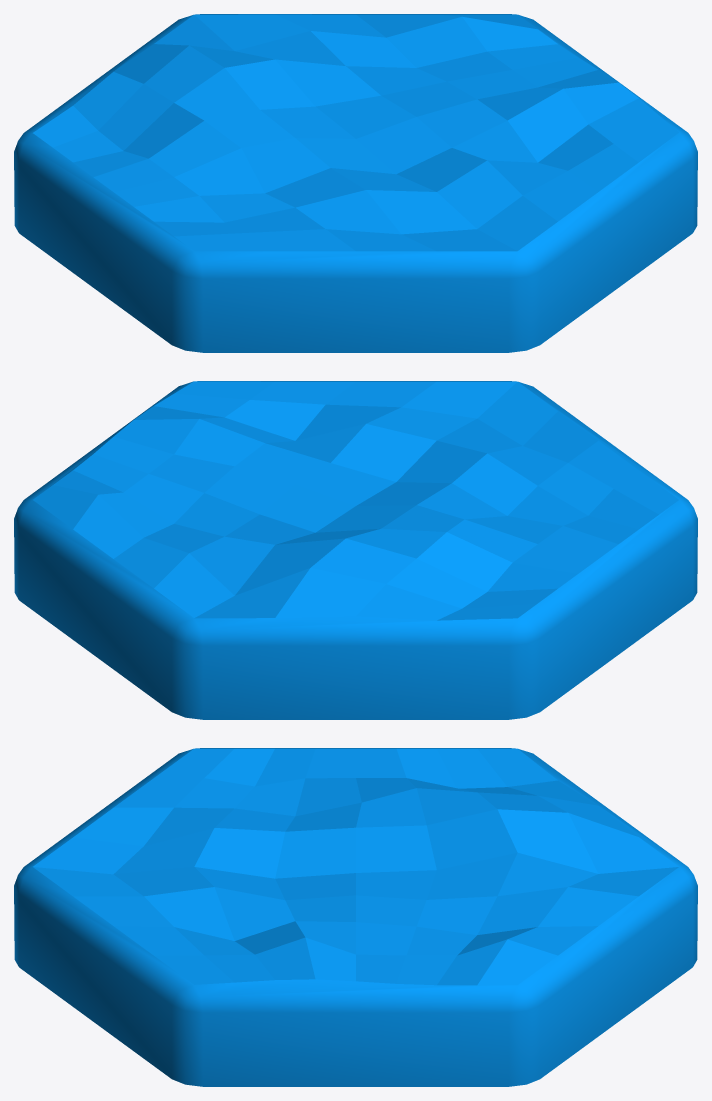
The model's file is FBX_Sea_0.fbx.
3 views of the same model, one above another, from view 1: azimuth 30°, elevation 25°; view 2: azimuth 150°, elevation 25°; view 3: azimuth 270°, elevation 25° (orthographic).
Parts seen in each view (by area): view 1: sea_base_0; view 2: sea_base_0; view 3: sea_base_0.
Boxes of the visible parts, <box> form: sea_base_0: <box>14,14,697,352</box>; sea_base_0: <box>14,381,697,719</box>; sea_base_0: <box>14,748,697,1086</box>.
Size of the model in its own units: 173 by 38.38 by 197.
